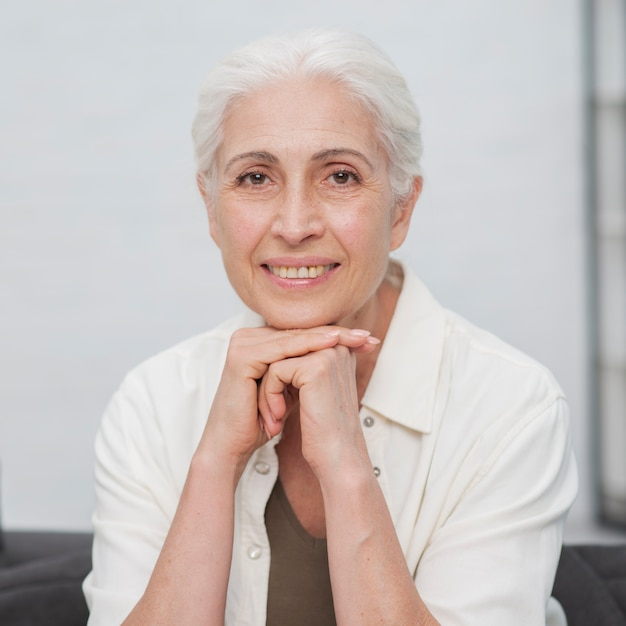young: (186, 35, 421, 345)
